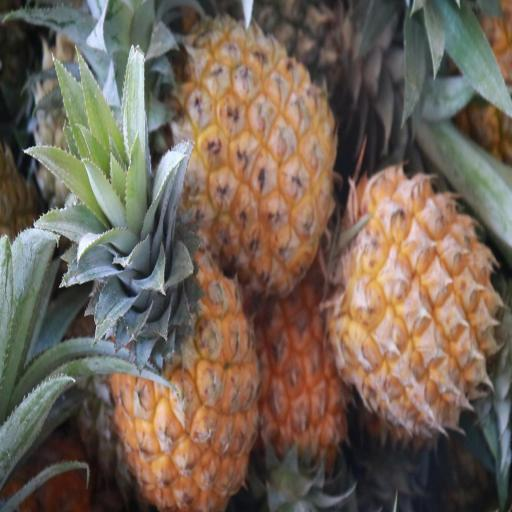Pineapple - v8 v1: (113, 189, 259, 507), (332, 164, 497, 440), (172, 20, 336, 293), (257, 295, 352, 512)
